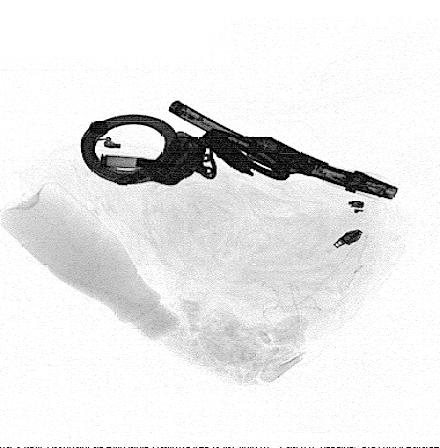Bullet: (100, 153, 175, 168)
Gun: (165, 99, 397, 201)
HandCuffs: (79, 111, 295, 188)
